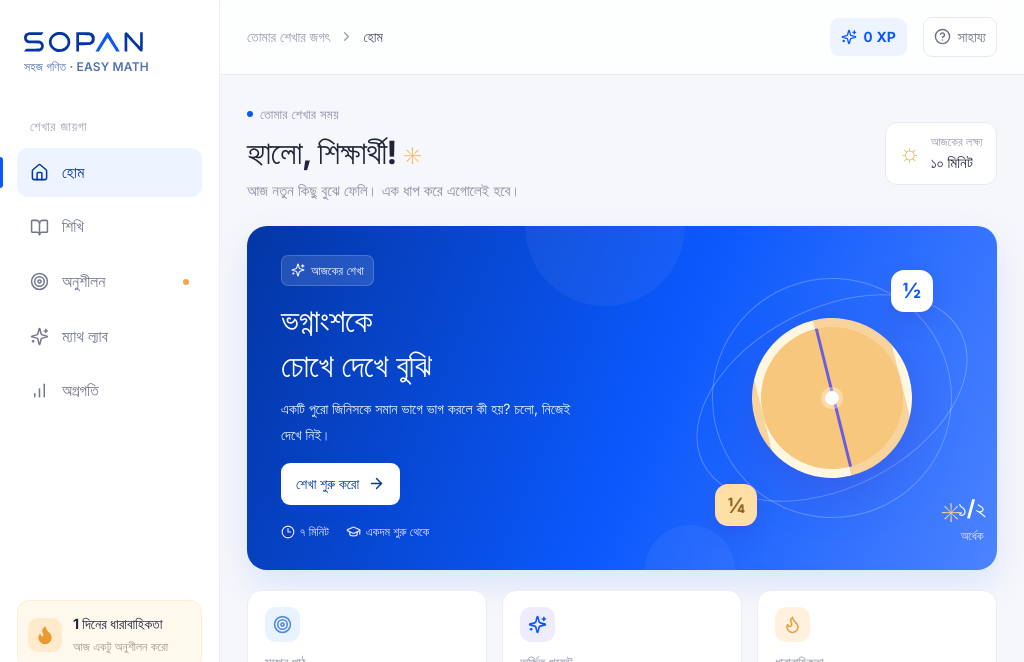
Test: Easy Math learning flow › opens the new decimal lesson and checks understanding with feedback
The image size is (1024, 662).
Click the button "শিখি".
click(110, 227)  # box [17,202,202,252]
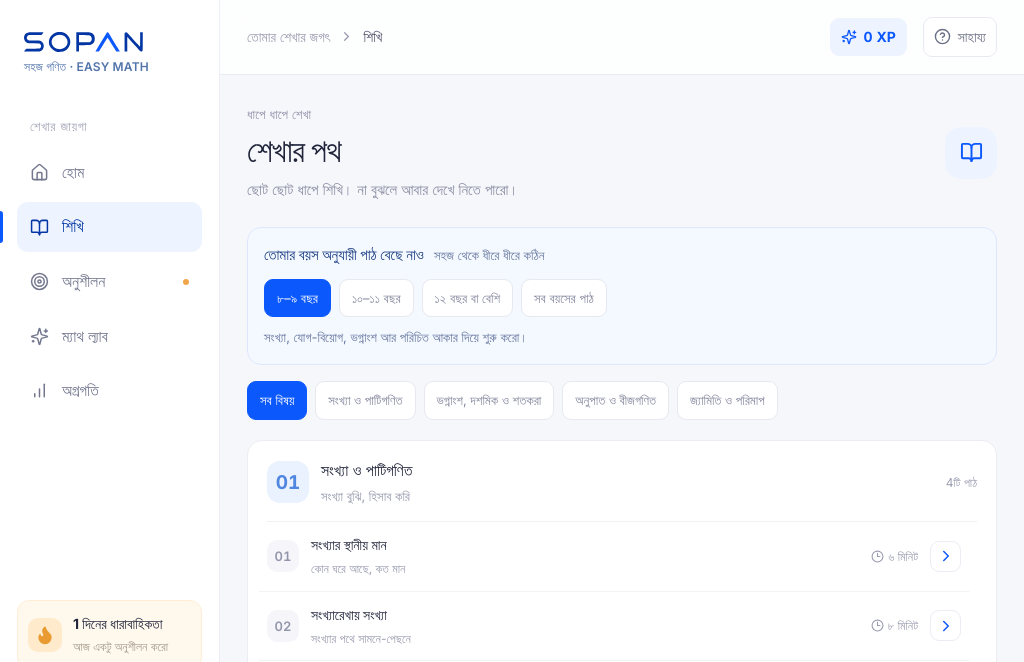
Click the button "১০–১১ বছর".
click(376, 298)  # box [339,279,414,317]
(page scrolled)
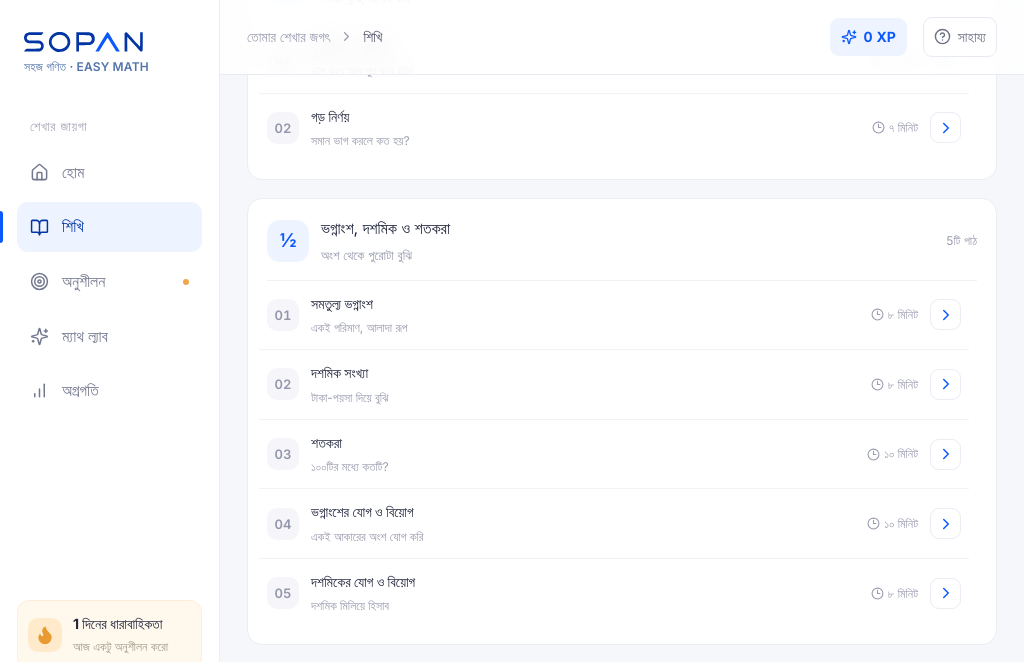
Click the button with aria-label "দশমিক সংখ্যা খুলুন".
click(283, 384)  # box [259,350,969,420]
(page scrolled)
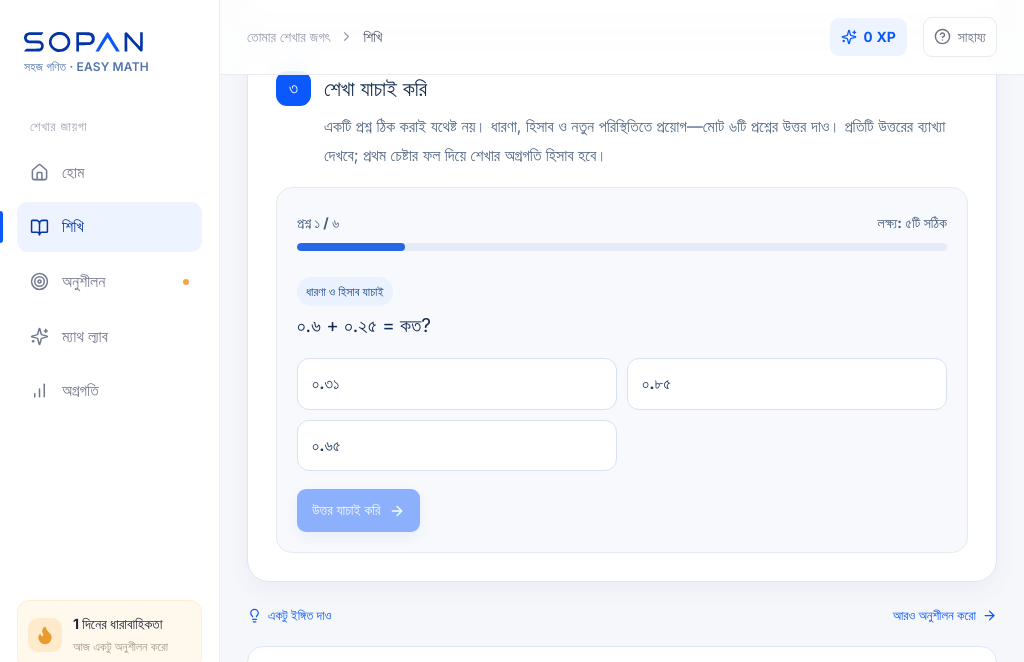
Click the button "০.৮৫".
click(657, 383)  # box [627,358,947,410]
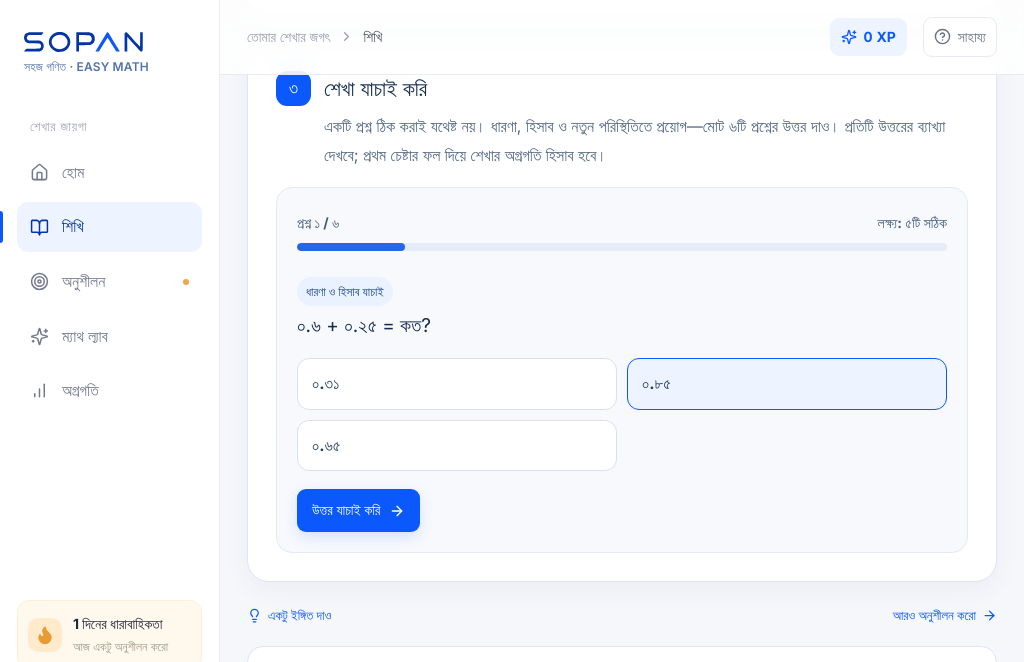
Click the button "উত্তর যাচাই করি".
click(359, 511)  # box [297,490,420,532]
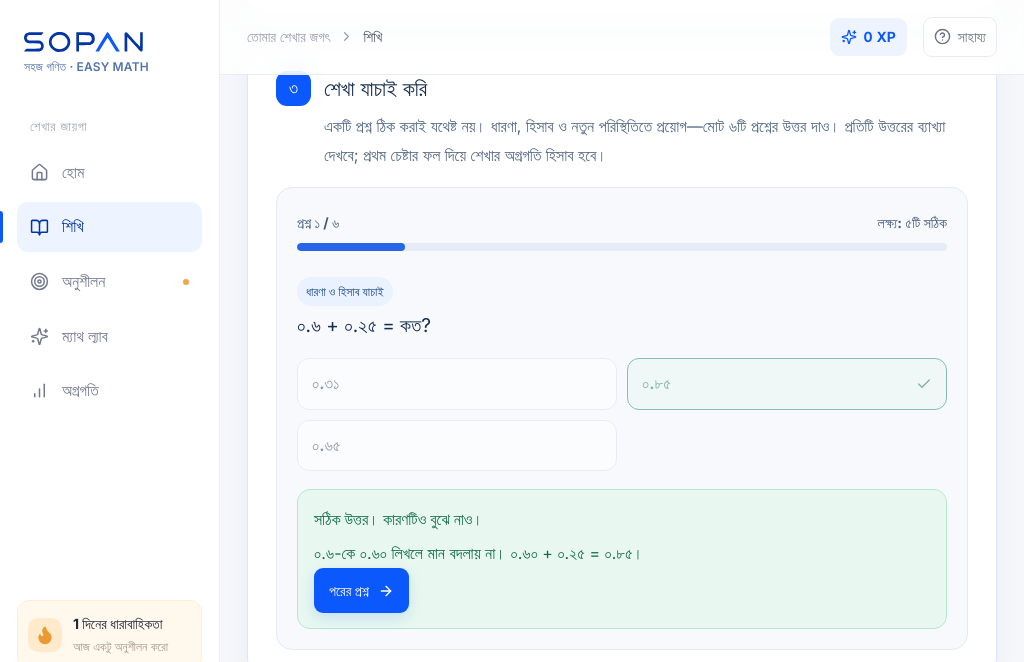
Now the text "সঠিক উত্তর। কারণটিও বুঝে নাও।" is shown, box [314,510,483,530]
Now the text "০.৬-কে ০.৬০ লিখলে মান বদলায় না। ০.৬০ + ০.২৫ = ০.৮৫।" is shown, box [314,543,644,563]
